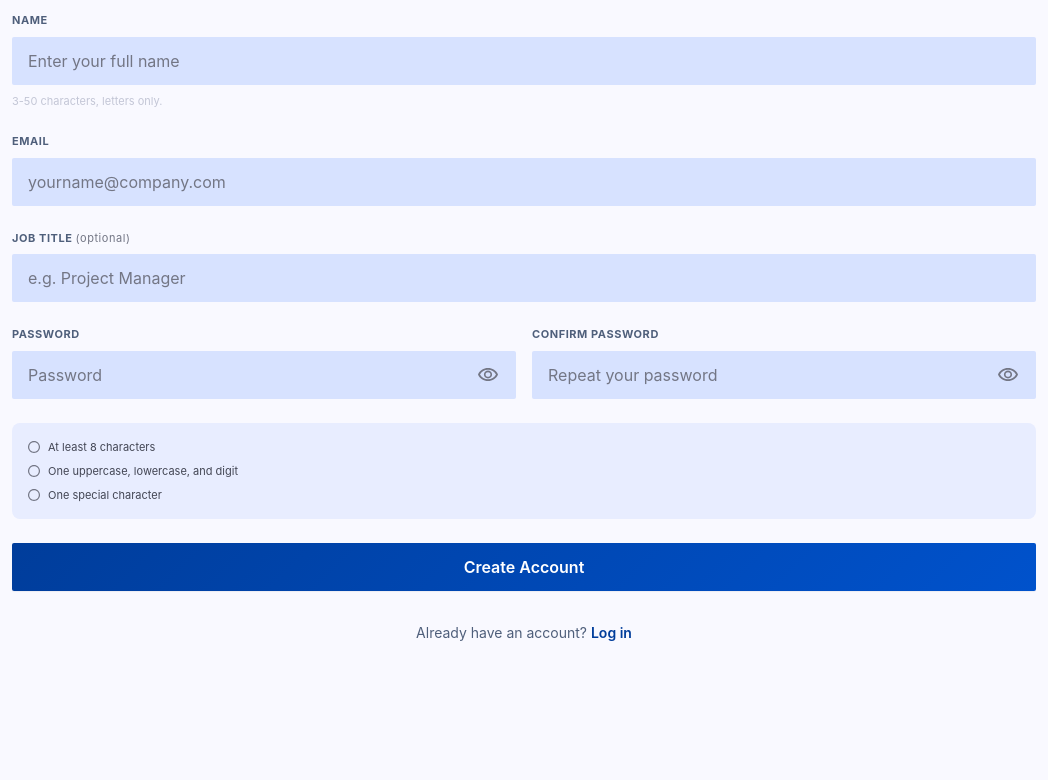
Scenario: SignUpForm › renders validation error and rejects before fetch for weak password
Type "Jane Doe" into the field labelled "Name". click: (524, 60)
box: [12, 36, 1036, 84]
Type "jane@example.com" into the field labelled "Email". click: (524, 182)
box: [12, 158, 1036, 206]
Note: Too short (less than 8 chars)
Type "Pass1!" into the password field labelled "Password". click: (264, 374)
box: [12, 350, 516, 398]
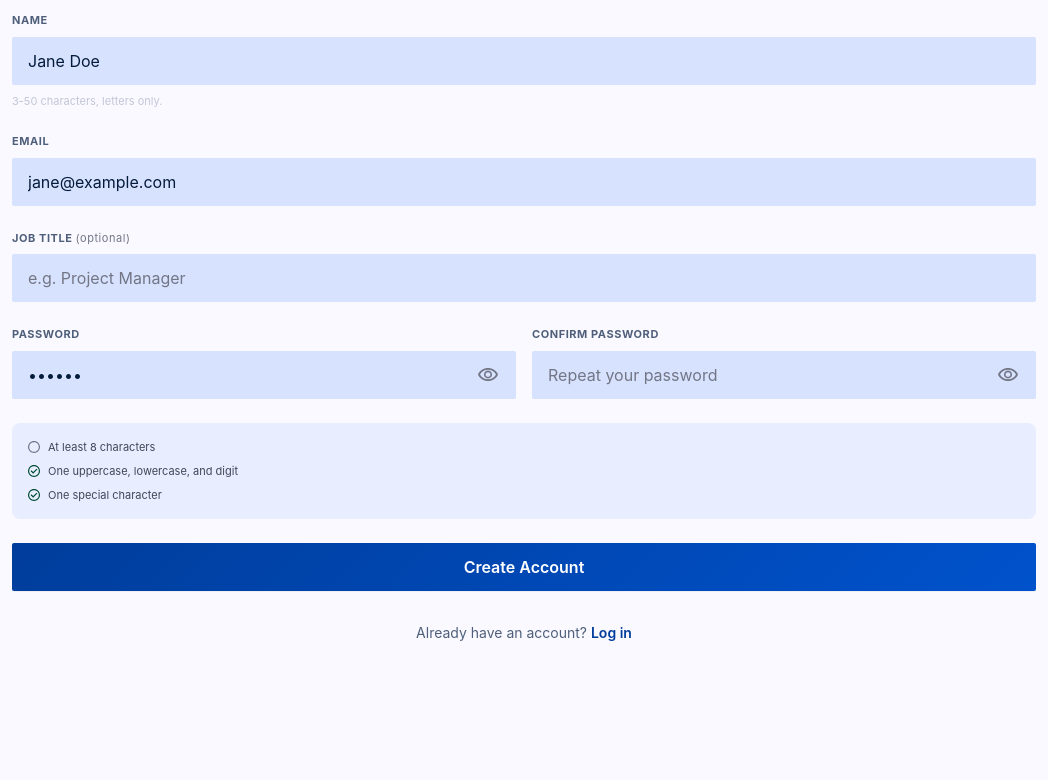
Type "Pass1!" into the password field labelled "Confirm Password". click: (784, 374)
box: [532, 350, 1036, 398]
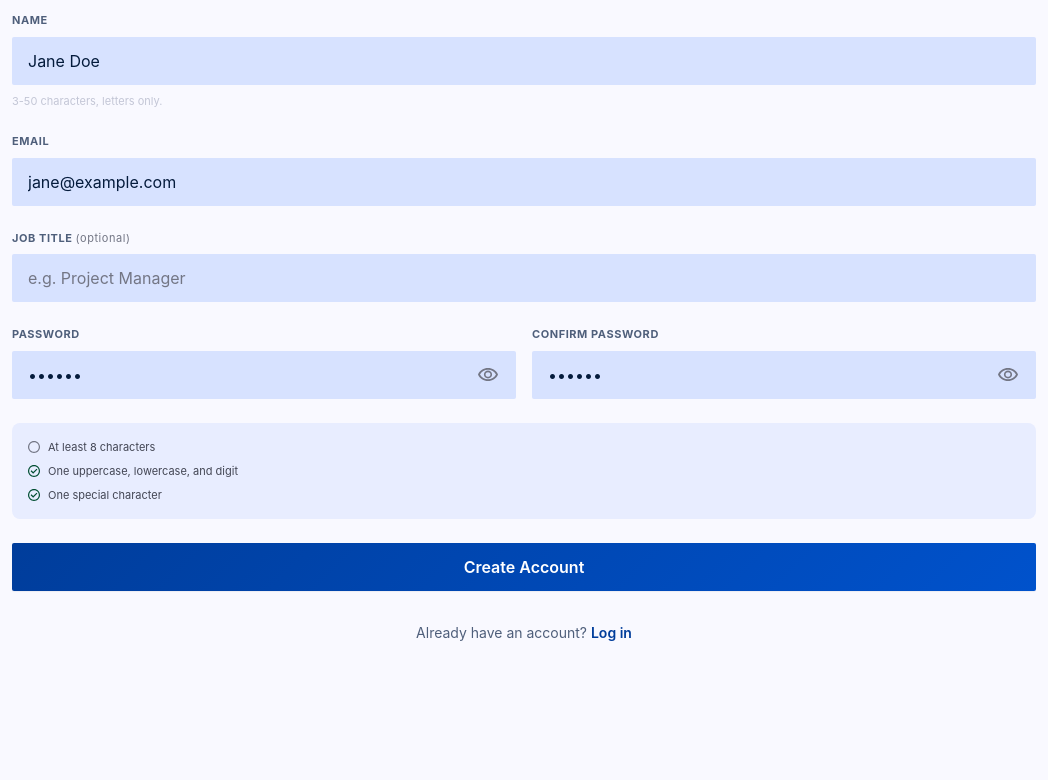
Click the button "Create Account". click: (524, 567)
box: [12, 543, 1036, 591]
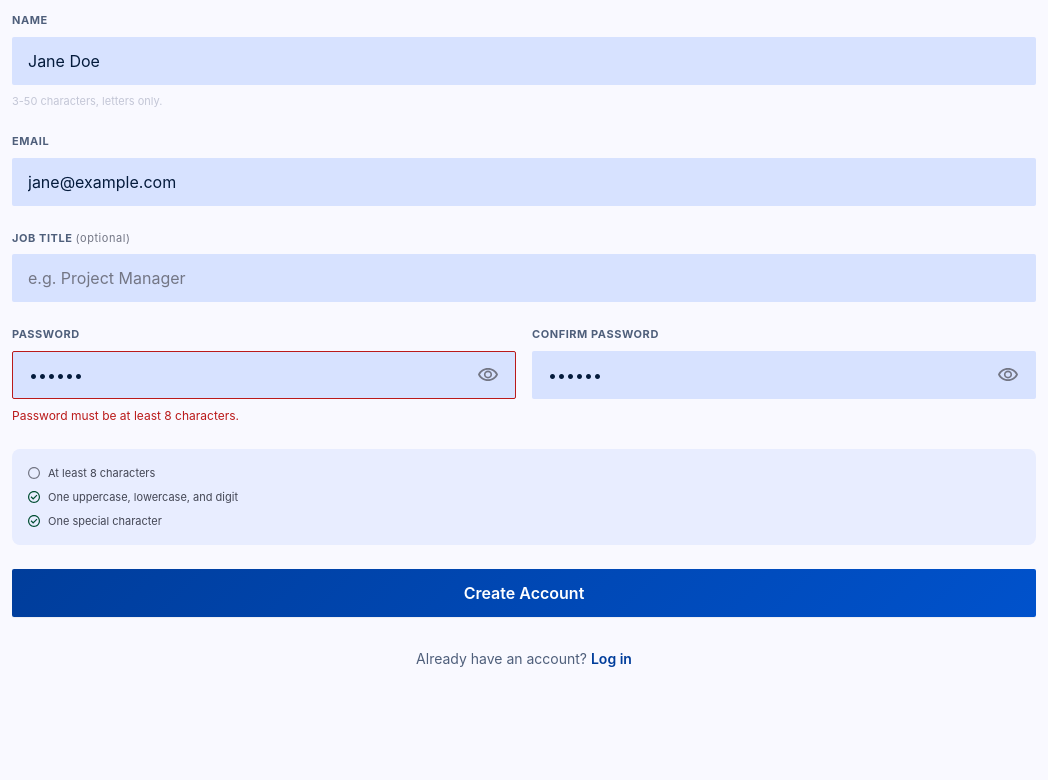
Expected: the text "Password must be at least 8 characters." is shown, [12, 408, 239, 422]
Note: Missing special character
Type "Password123" into the password field labelled "Password". click: (264, 374)
box: [12, 350, 516, 398]
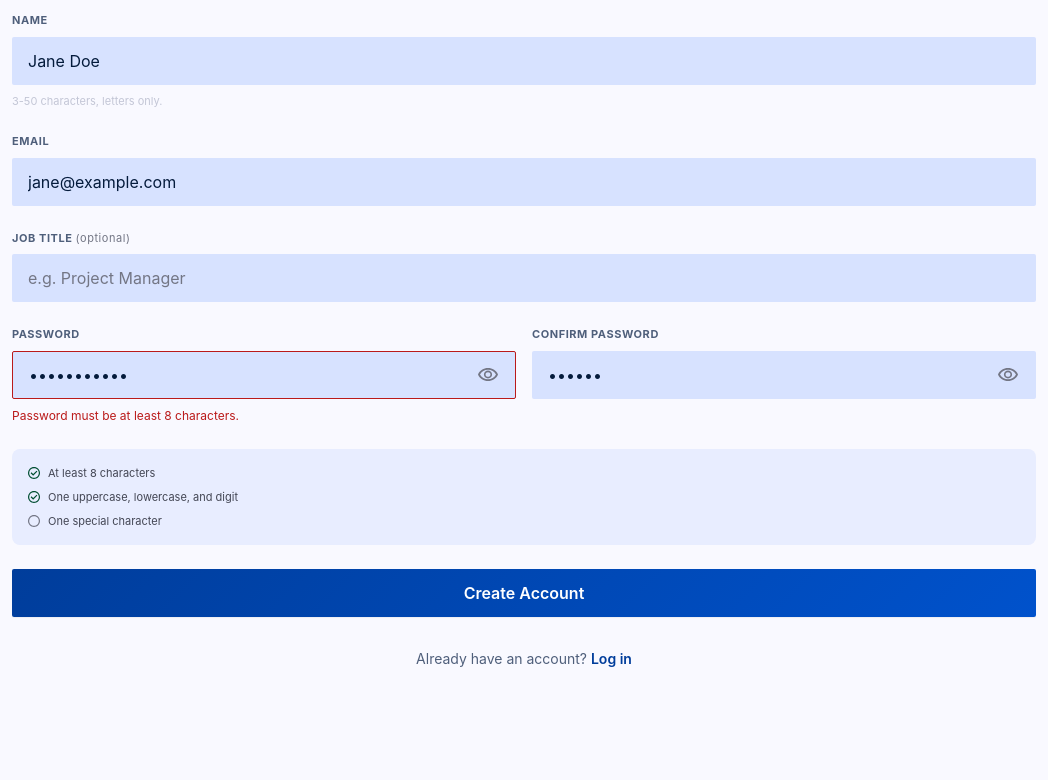
Type "Password123" into the password field labelled "Confirm Password". click: (784, 374)
box: [532, 350, 1036, 398]
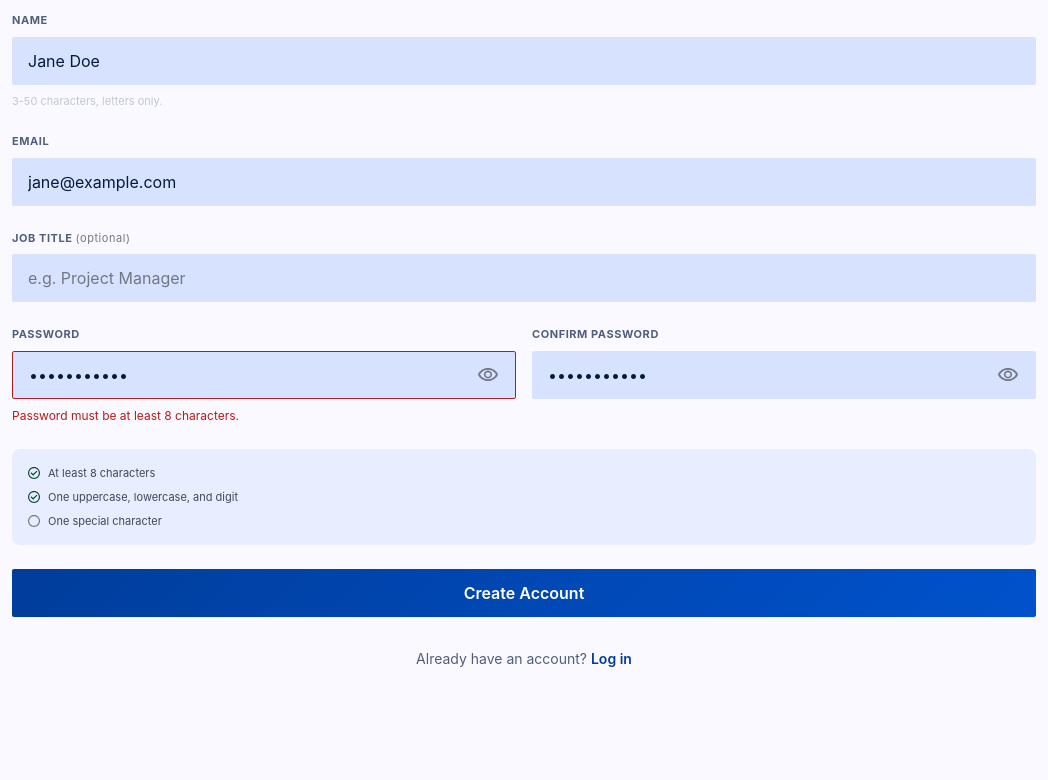
Click the button "Create Account". click: (524, 593)
box: [12, 569, 1036, 617]
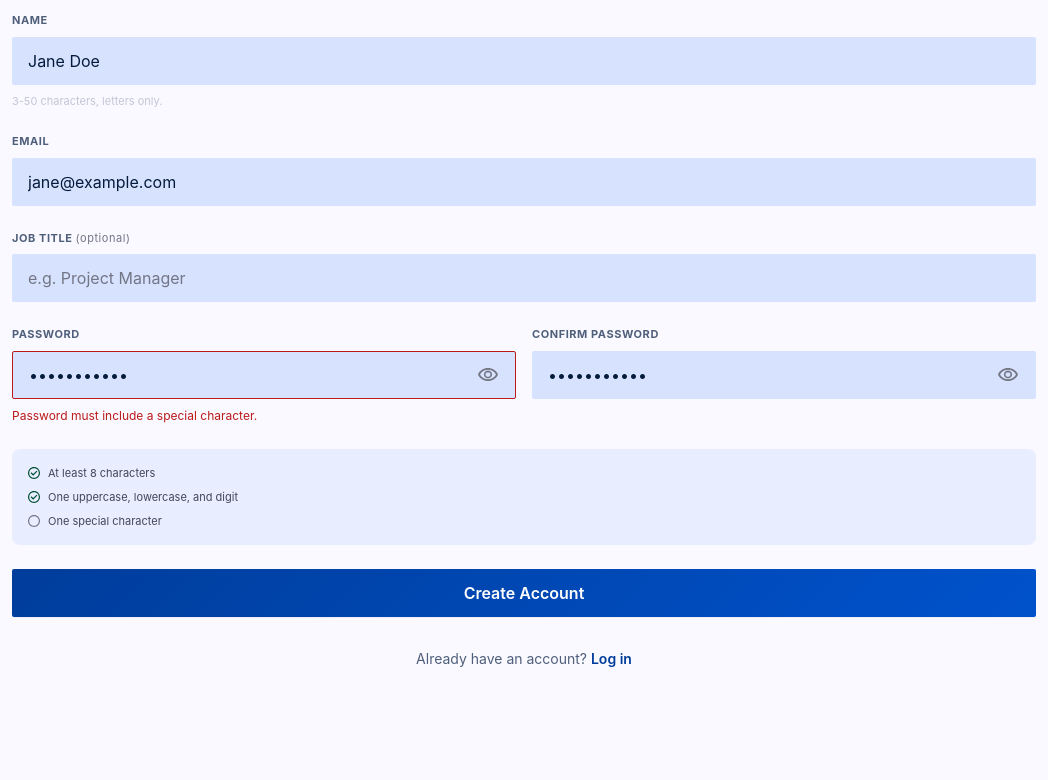
Expected: the text "Password must include a special character." is shown, [12, 408, 257, 422]
